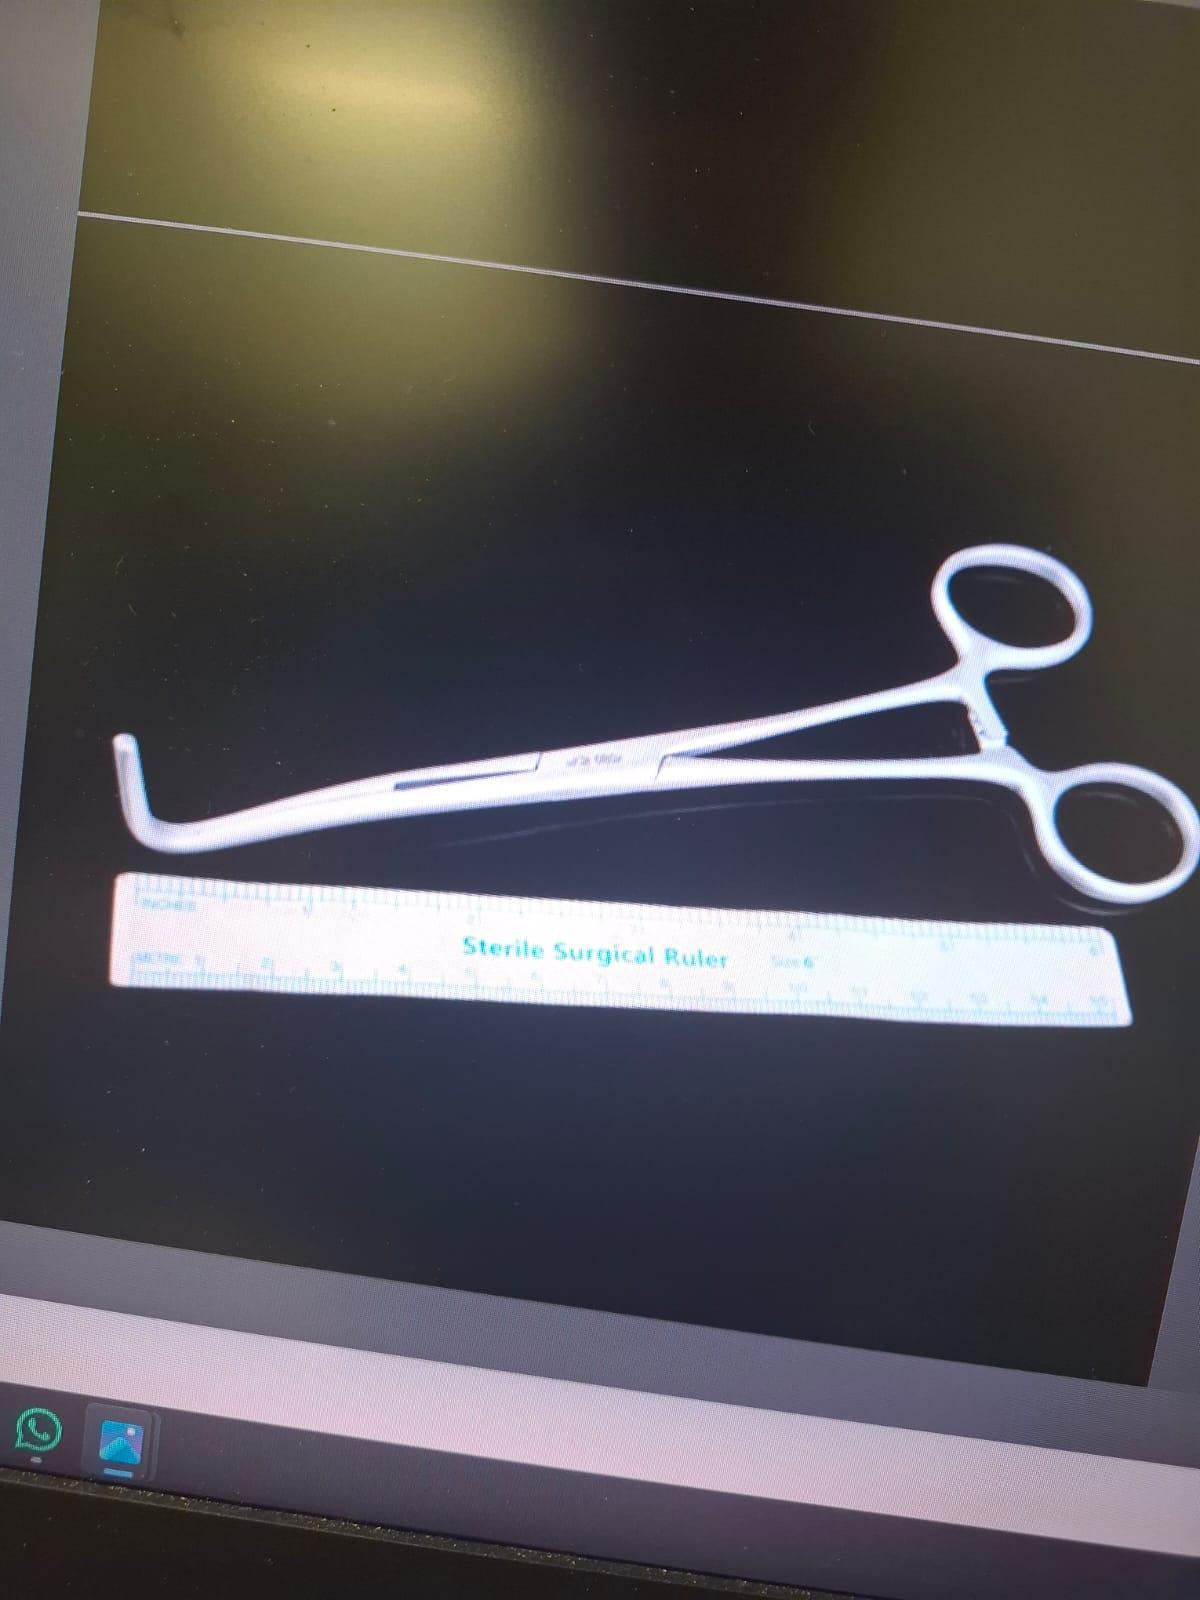Rectangle Cholecystectomy Forceps: (80, 538, 1200, 950)
